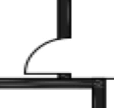door: (17, 30, 78, 78)
